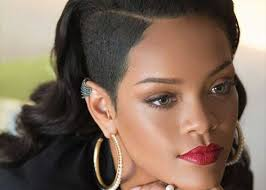black_female: (51, 3, 266, 188)
